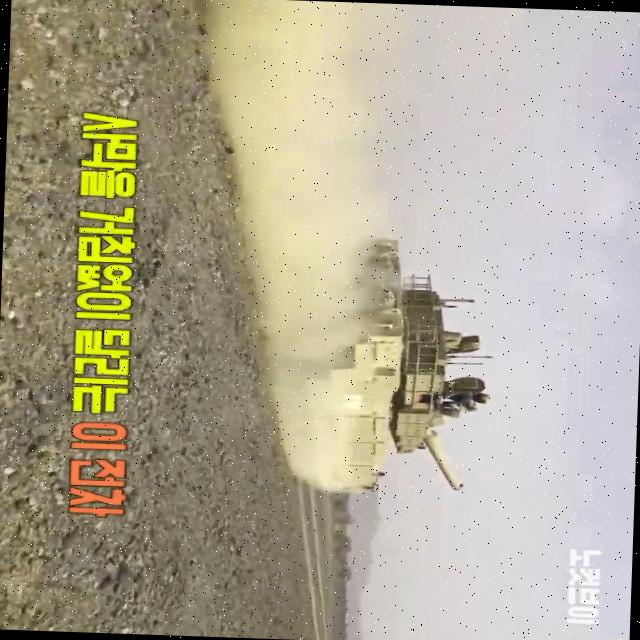korea tank: (277, 234, 504, 501)
